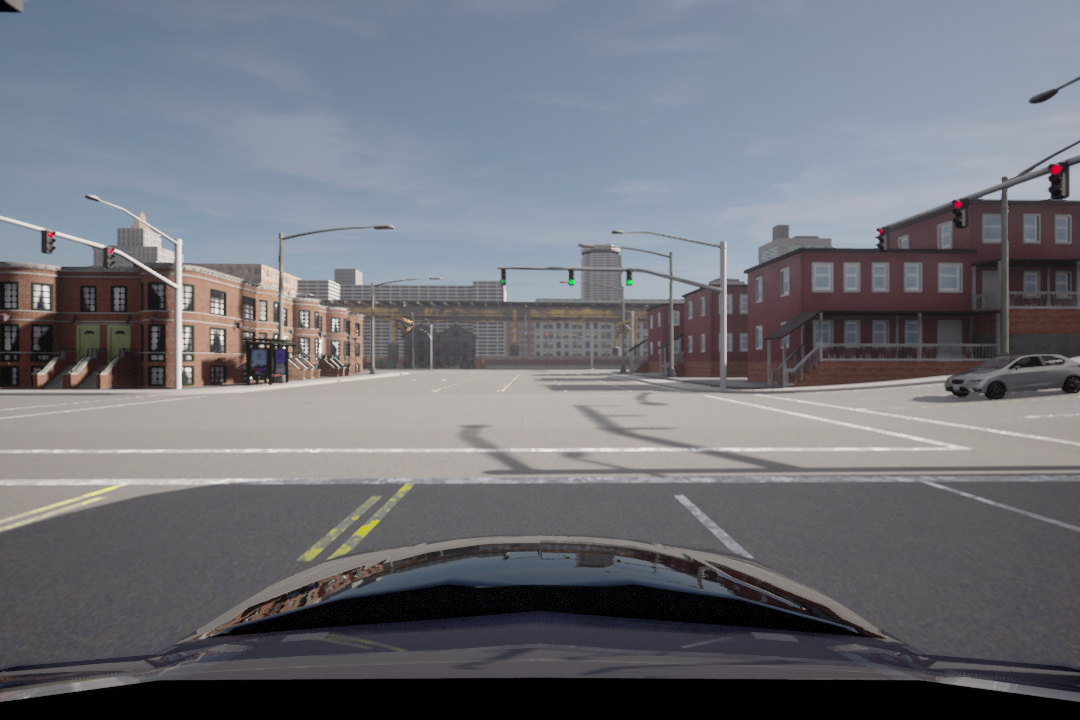TrafficLight: (1047, 162, 1070, 199), (948, 195, 969, 227), (99, 245, 118, 271), (40, 229, 56, 253), (873, 225, 886, 252), (566, 269, 577, 288), (626, 269, 634, 290), (498, 267, 506, 287)
